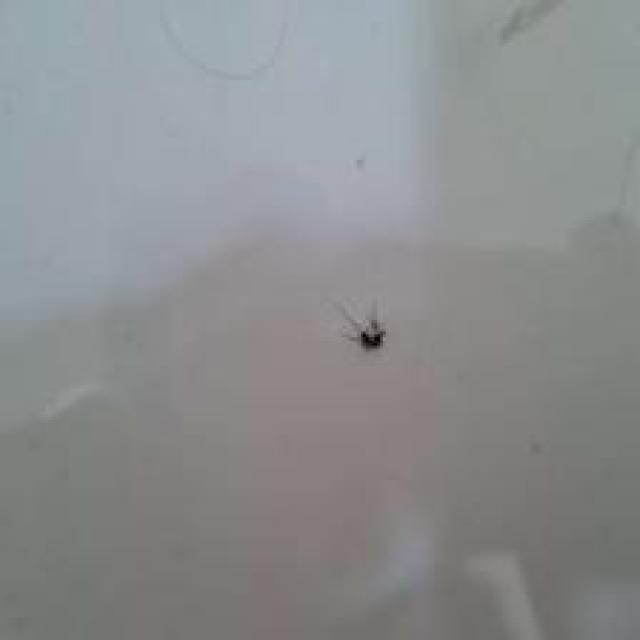Aedes albopictus: (336, 297, 387, 352)
